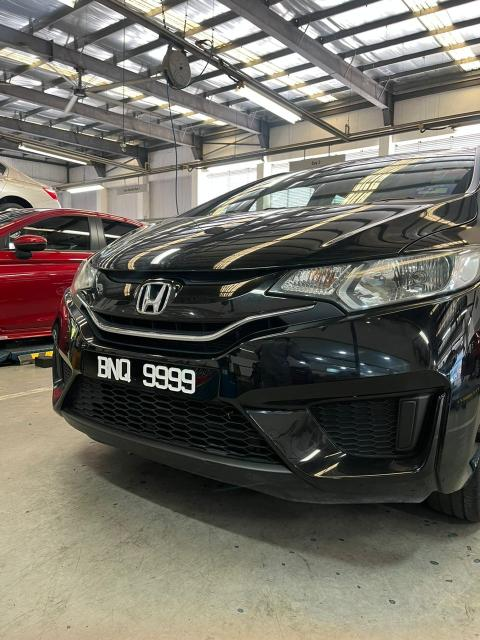License_Plate: (82, 346, 211, 407)
car: (43, 143, 480, 518)
